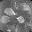people: (4, 7, 16, 16), (1, 15, 11, 23), (17, 16, 25, 24)
